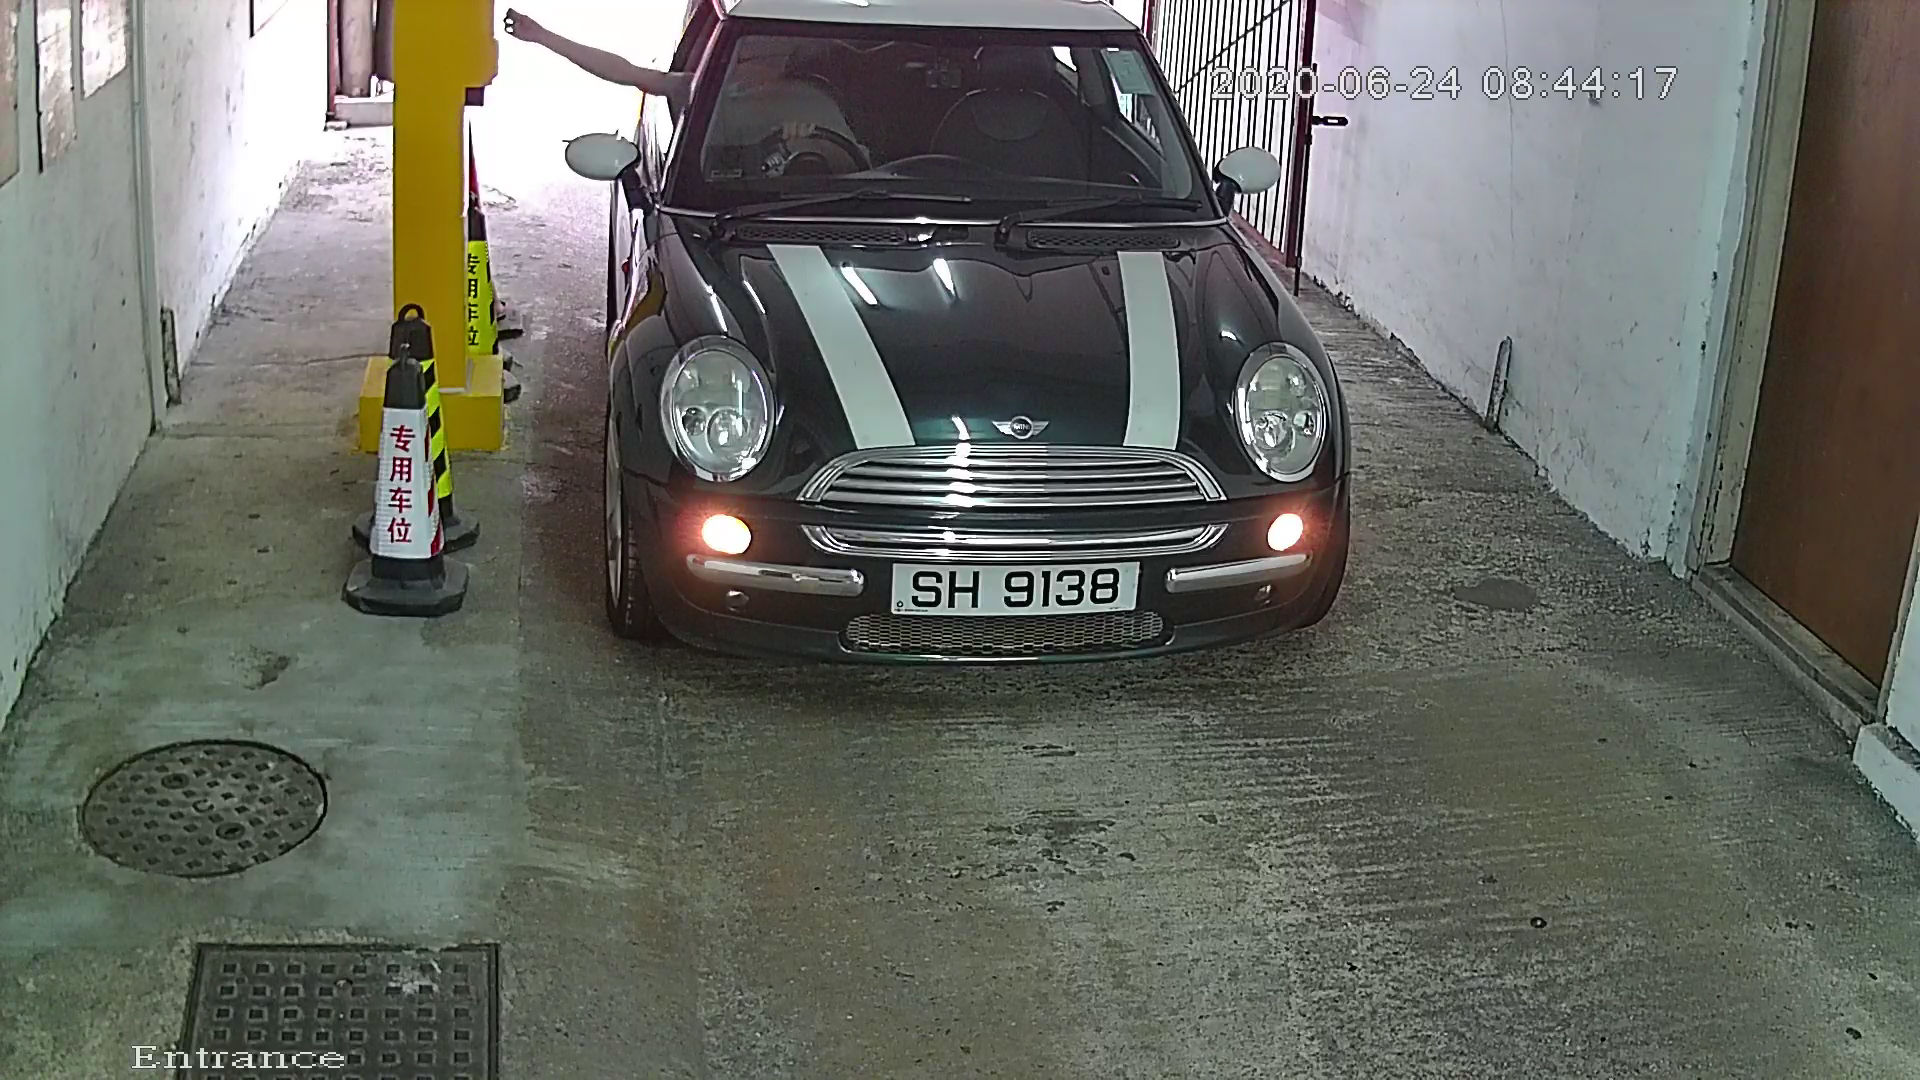privatecar: (551, 1, 1383, 711)
